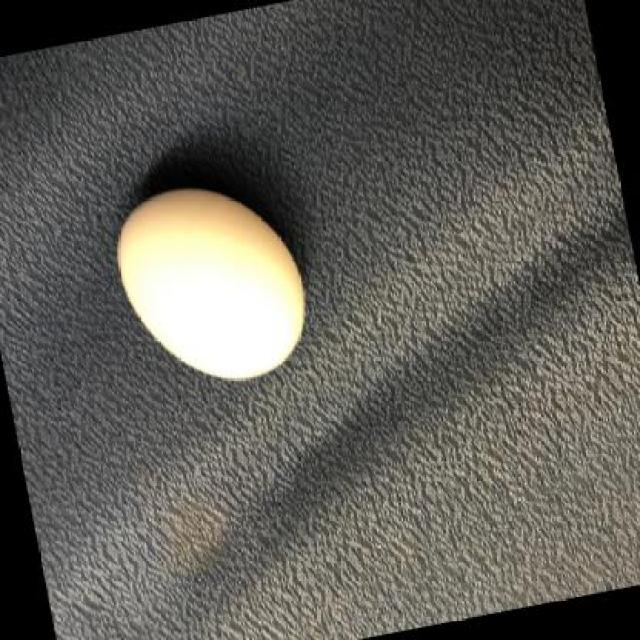egg: (117, 183, 312, 385)
